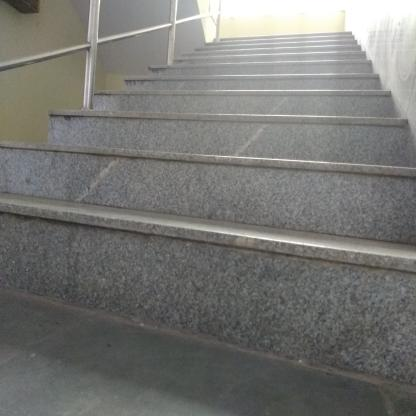stairs: (12, 92, 394, 378)
